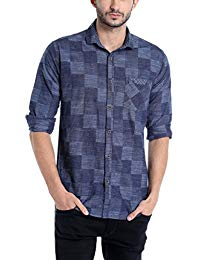Shirt: (25, 25, 182, 220)
